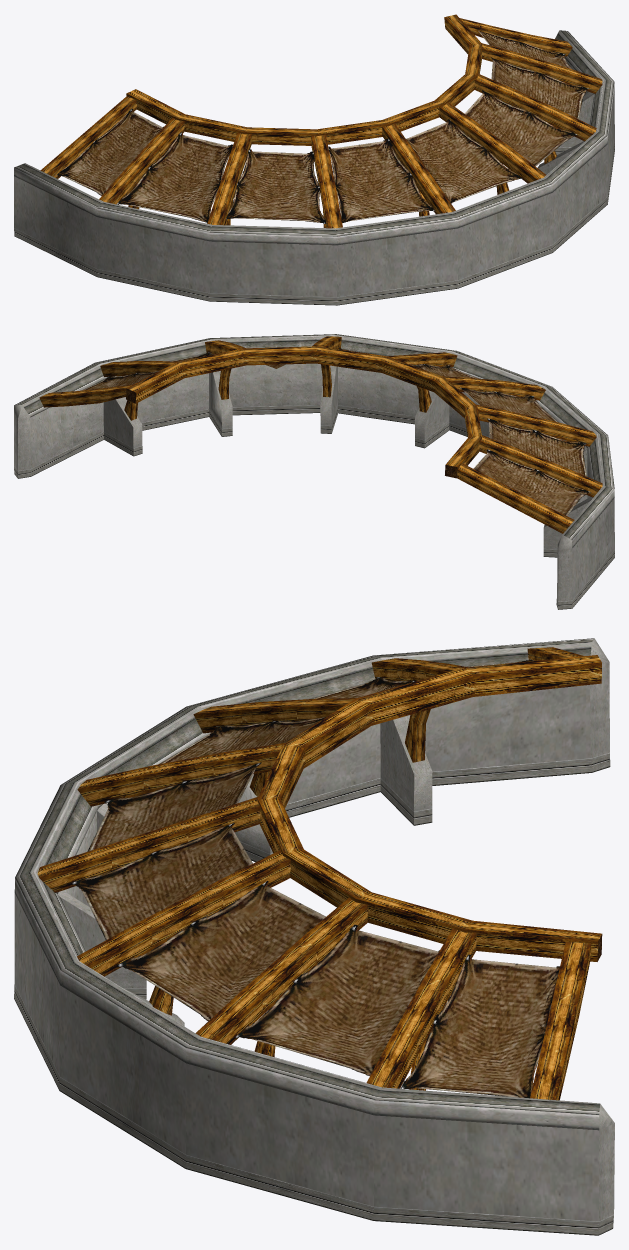
Rendered from DWARF_PALACE_FORGE_WORKAREA.fbx.
3 views of the same model, one above another, from view 1: azimuth 30°, elevation 25°; view 2: azimuth 150°, elevation 25°; view 3: azimuth 270°, elevation 25° (orthographic). The views are drawn at different scales.
Visible parts, largest first — view 1: DWARF_PALACE_FORGE_WORKAREA; view 2: DWARF_PALACE_FORGE_WORKAREA; view 3: DWARF_PALACE_FORGE_WORKAREA.
Boxes of the visible parts, box(x1,y1,x2,y2) form: DWARF_PALACE_FORGE_WORKAREA: box(14, 14, 614, 305); DWARF_PALACE_FORGE_WORKAREA: box(14, 334, 614, 609); DWARF_PALACE_FORGE_WORKAREA: box(14, 638, 614, 1235).
Size of the model in its own units: 200051 by 39622 by 106544.
6 materials, 6 textured.
